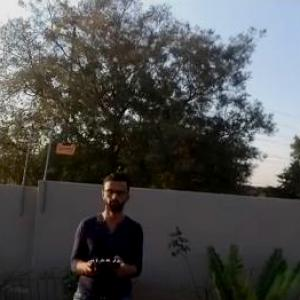follow: (61, 169, 148, 299)
